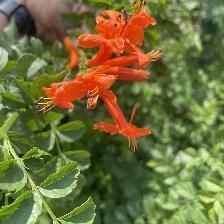honeysuckle: (33, 71, 109, 121), (98, 90, 155, 151), (81, 8, 148, 58)
